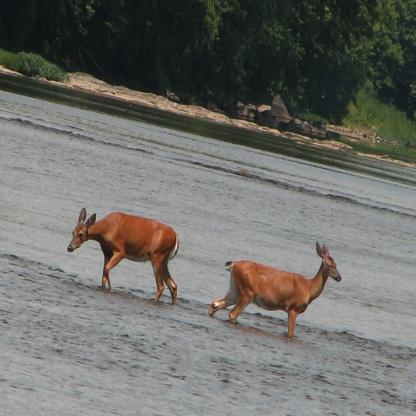Deer: (207, 242, 340, 340), (68, 207, 179, 307)
